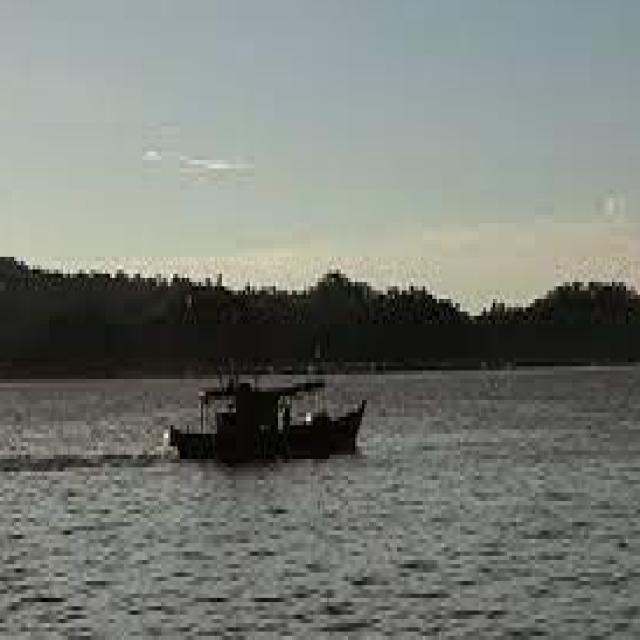fishing boat: (162, 359, 364, 454)
